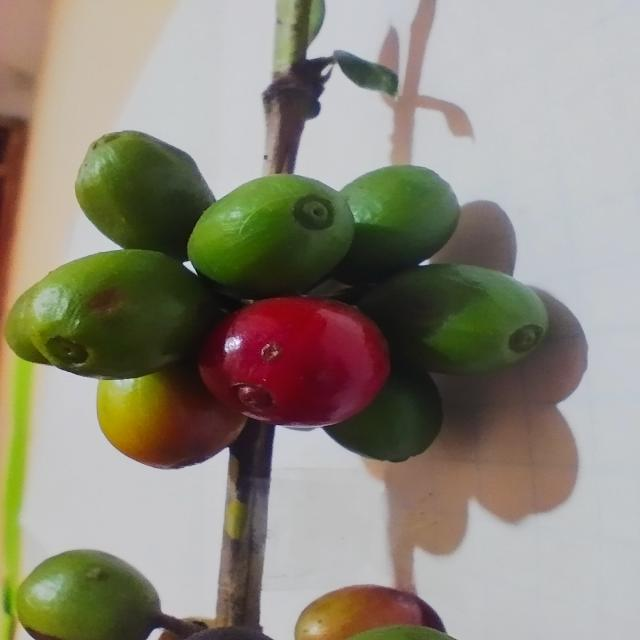Infectado: (199, 296, 389, 427)
Sano: (5, 250, 224, 379), (358, 264, 548, 375), (188, 175, 354, 299), (76, 131, 215, 261), (98, 362, 245, 468), (332, 165, 460, 284), (17, 551, 160, 640), (324, 367, 442, 462)
